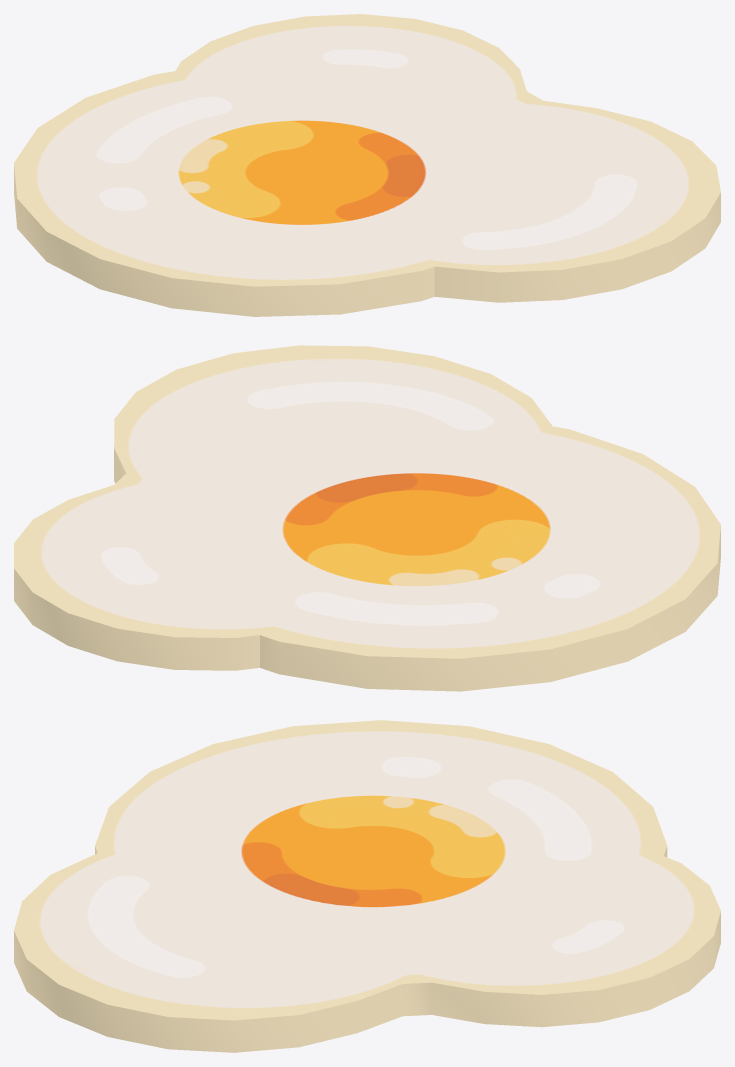
Rendered from egg.glb.
The picture shows the model from 3 angles, top to bottom: view 1: azimuth 30°, elevation 25°; view 2: azimuth 150°, elevation 25°; view 3: azimuth 270°, elevation 25°; orthographic projection. The views are drawn at different scales.
Parts seen in each view (by area): view 1: Egg_Slice; view 2: Egg_Slice; view 3: Egg_Slice.
Part boxes in pixels (x1,y1,x2,y2): Egg_Slice: (14, 14, 720, 316); Egg_Slice: (14, 345, 720, 691); Egg_Slice: (14, 720, 720, 1052).
Bounding box in the file's own units: 0.1995 × 0.01 × 0.1984.
Materials: 1 (1 with a texture image).
